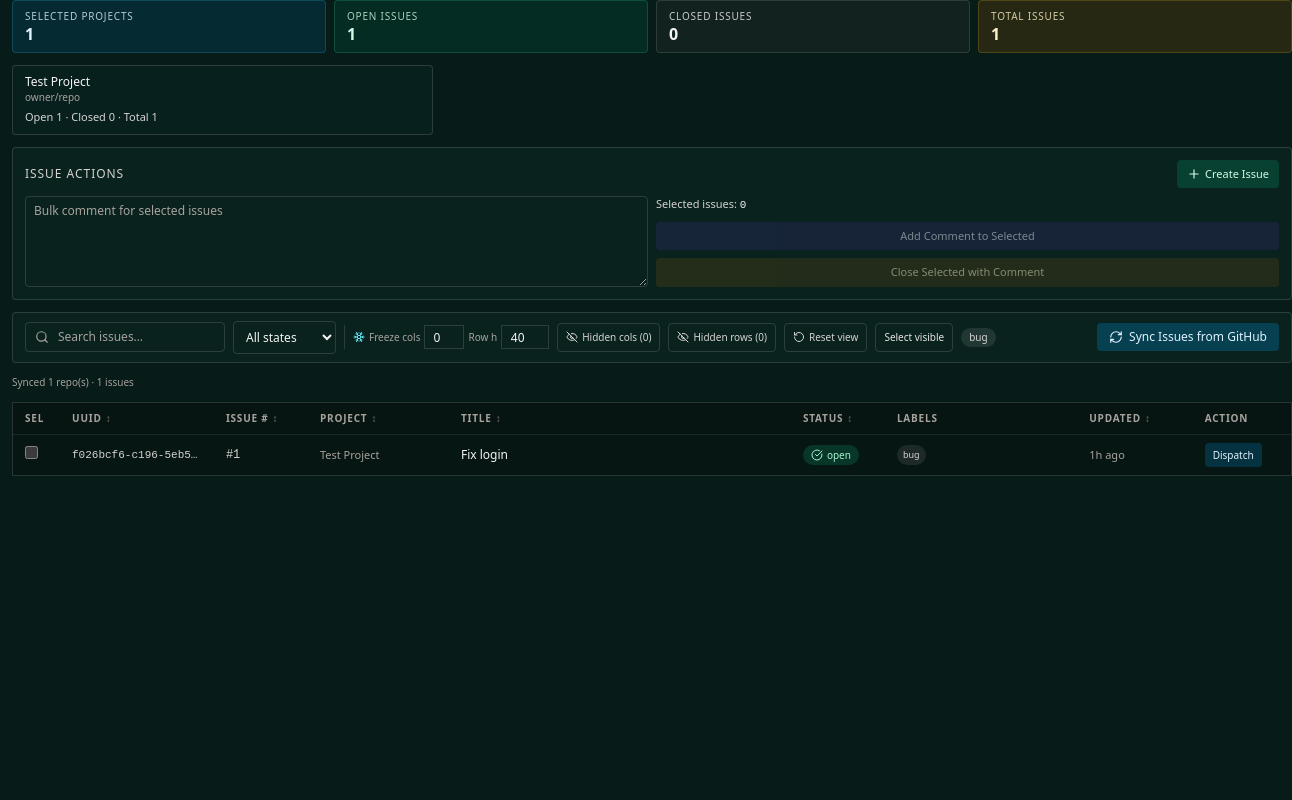
Test: IssuesTab › clicking a row shows issue detail panel
Click the row
What coordinates should you click on to do the following:
click the text "#1"
I would click on:
 (229, 455)
Its box is top-left (226, 448), bottom-right (240, 462).
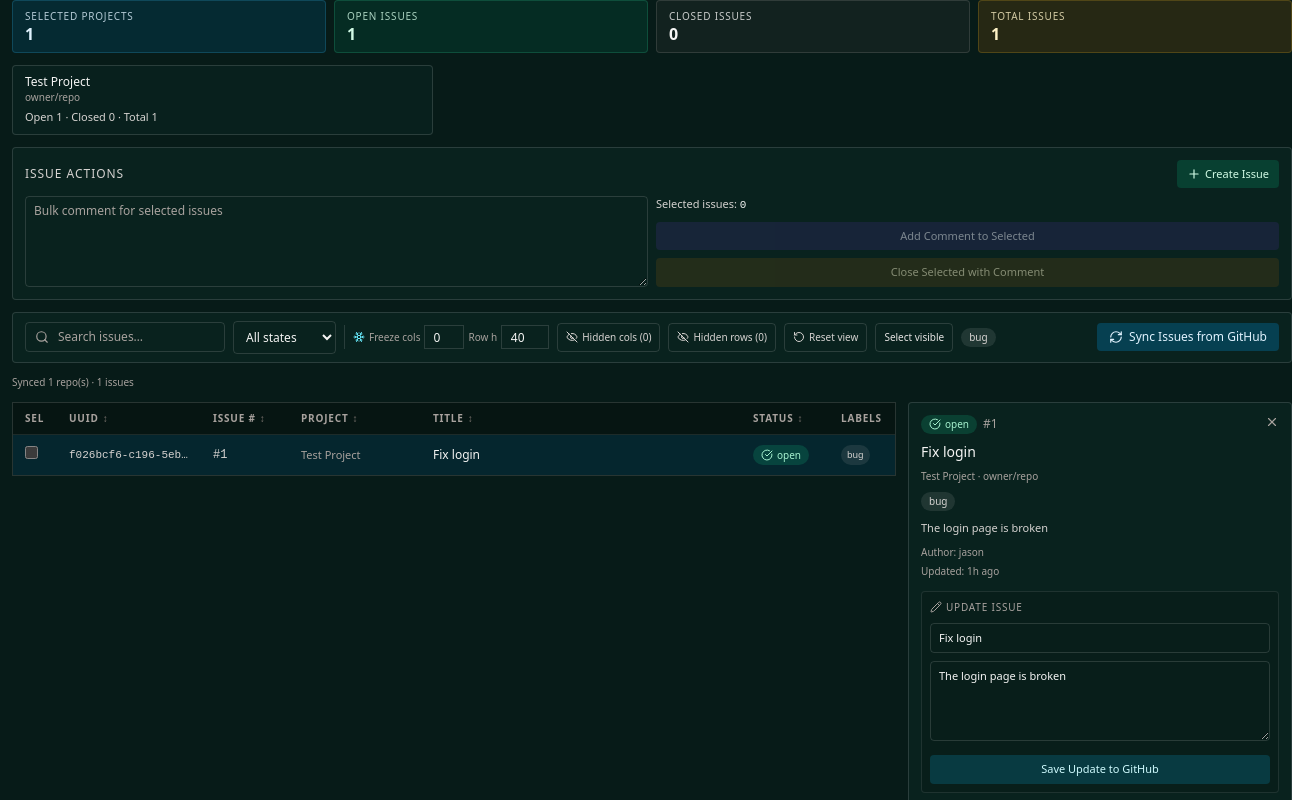
Result: the text "The login page is broken" is shown at top-left (921, 520), bottom-right (1048, 535)
